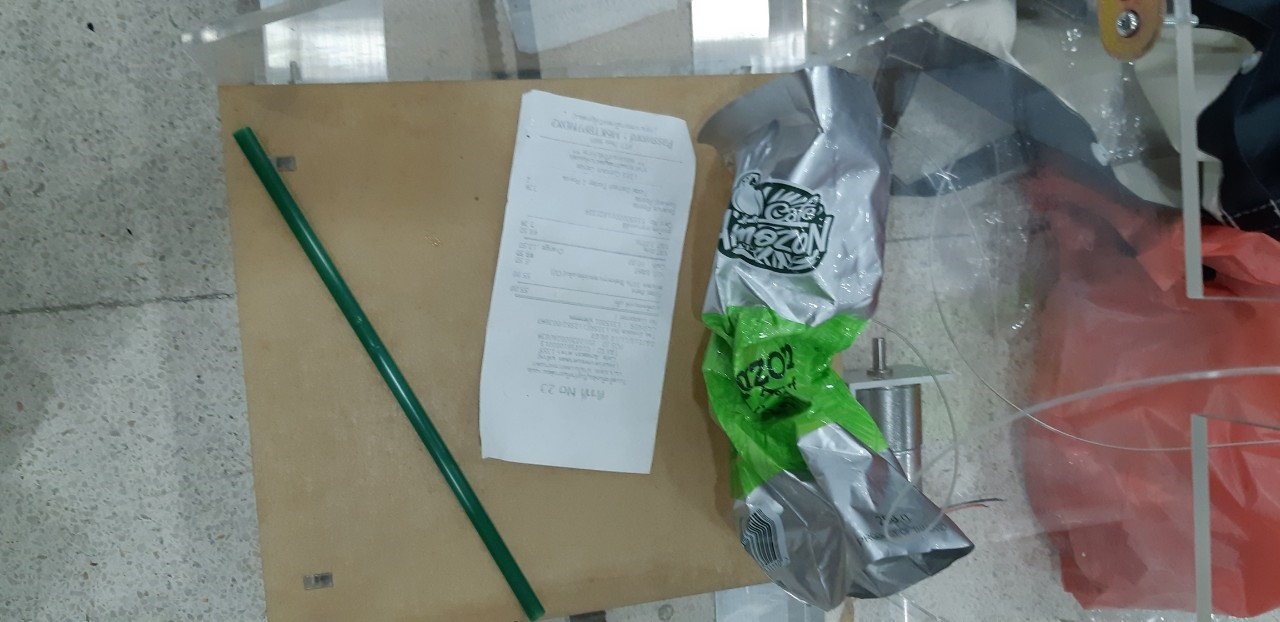Others: (696, 65, 972, 610), (237, 130, 543, 620), (481, 92, 696, 472)
